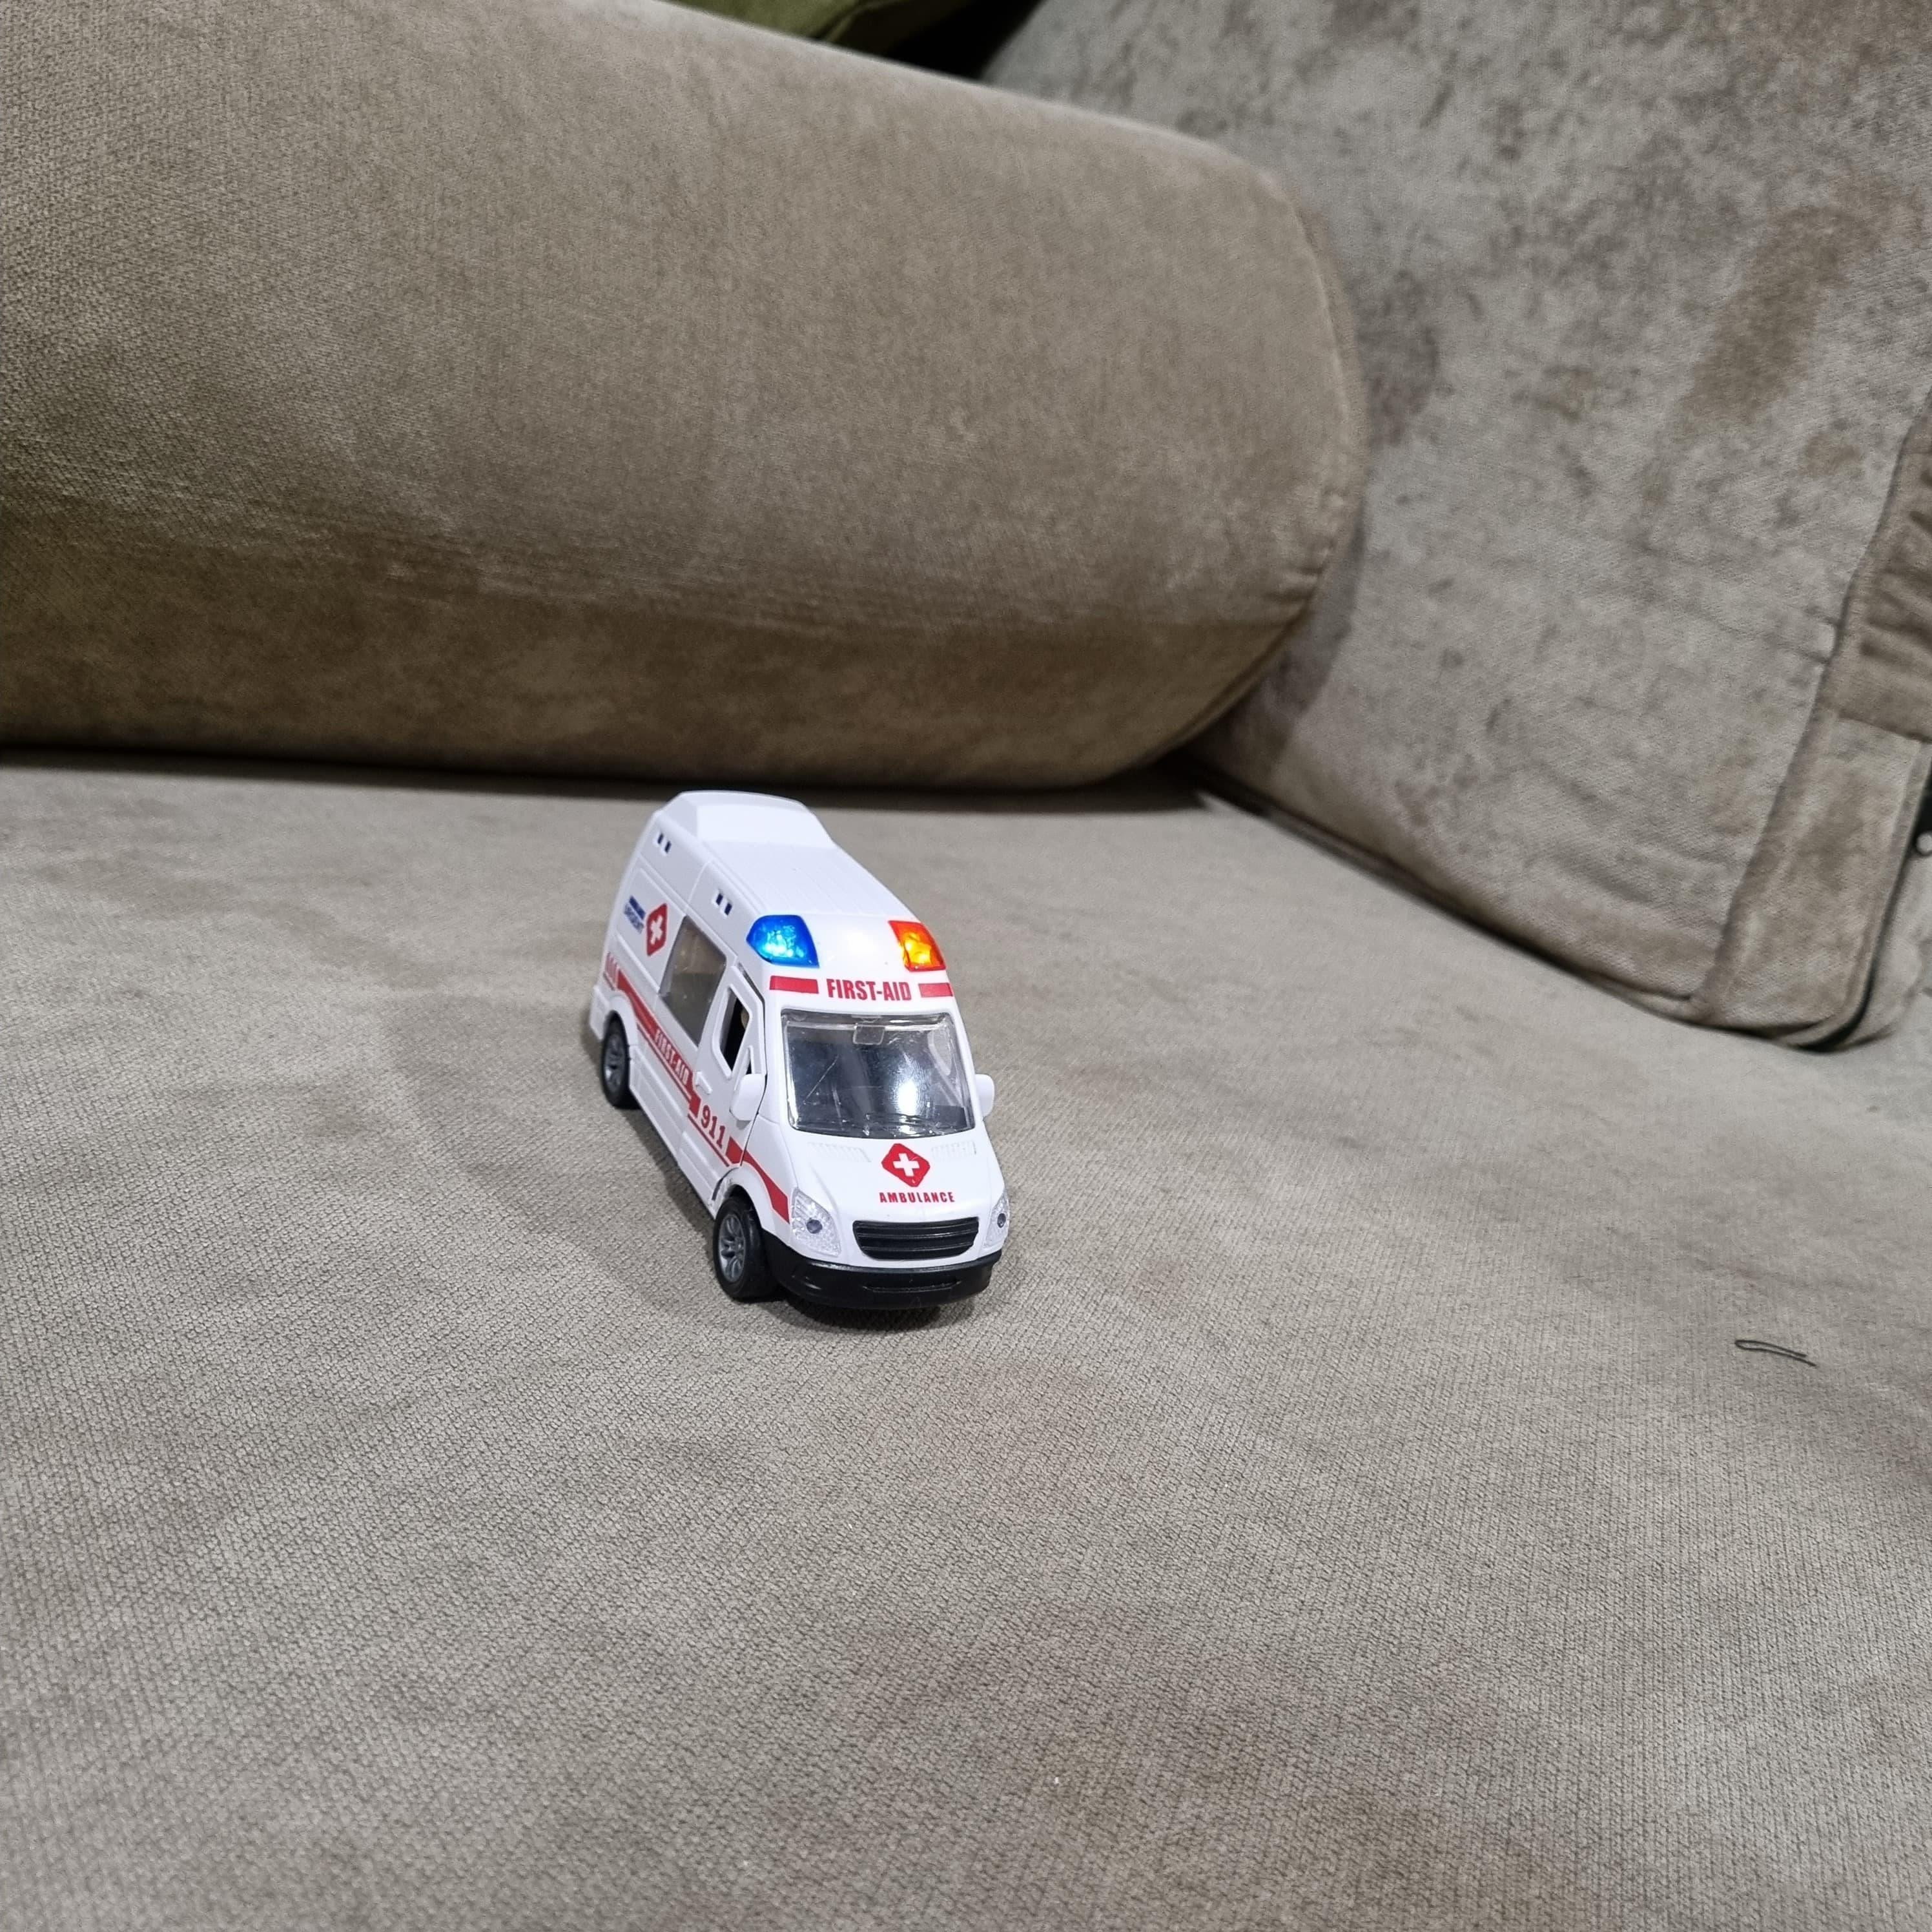ambulance_on: (589, 789, 1014, 1320)
